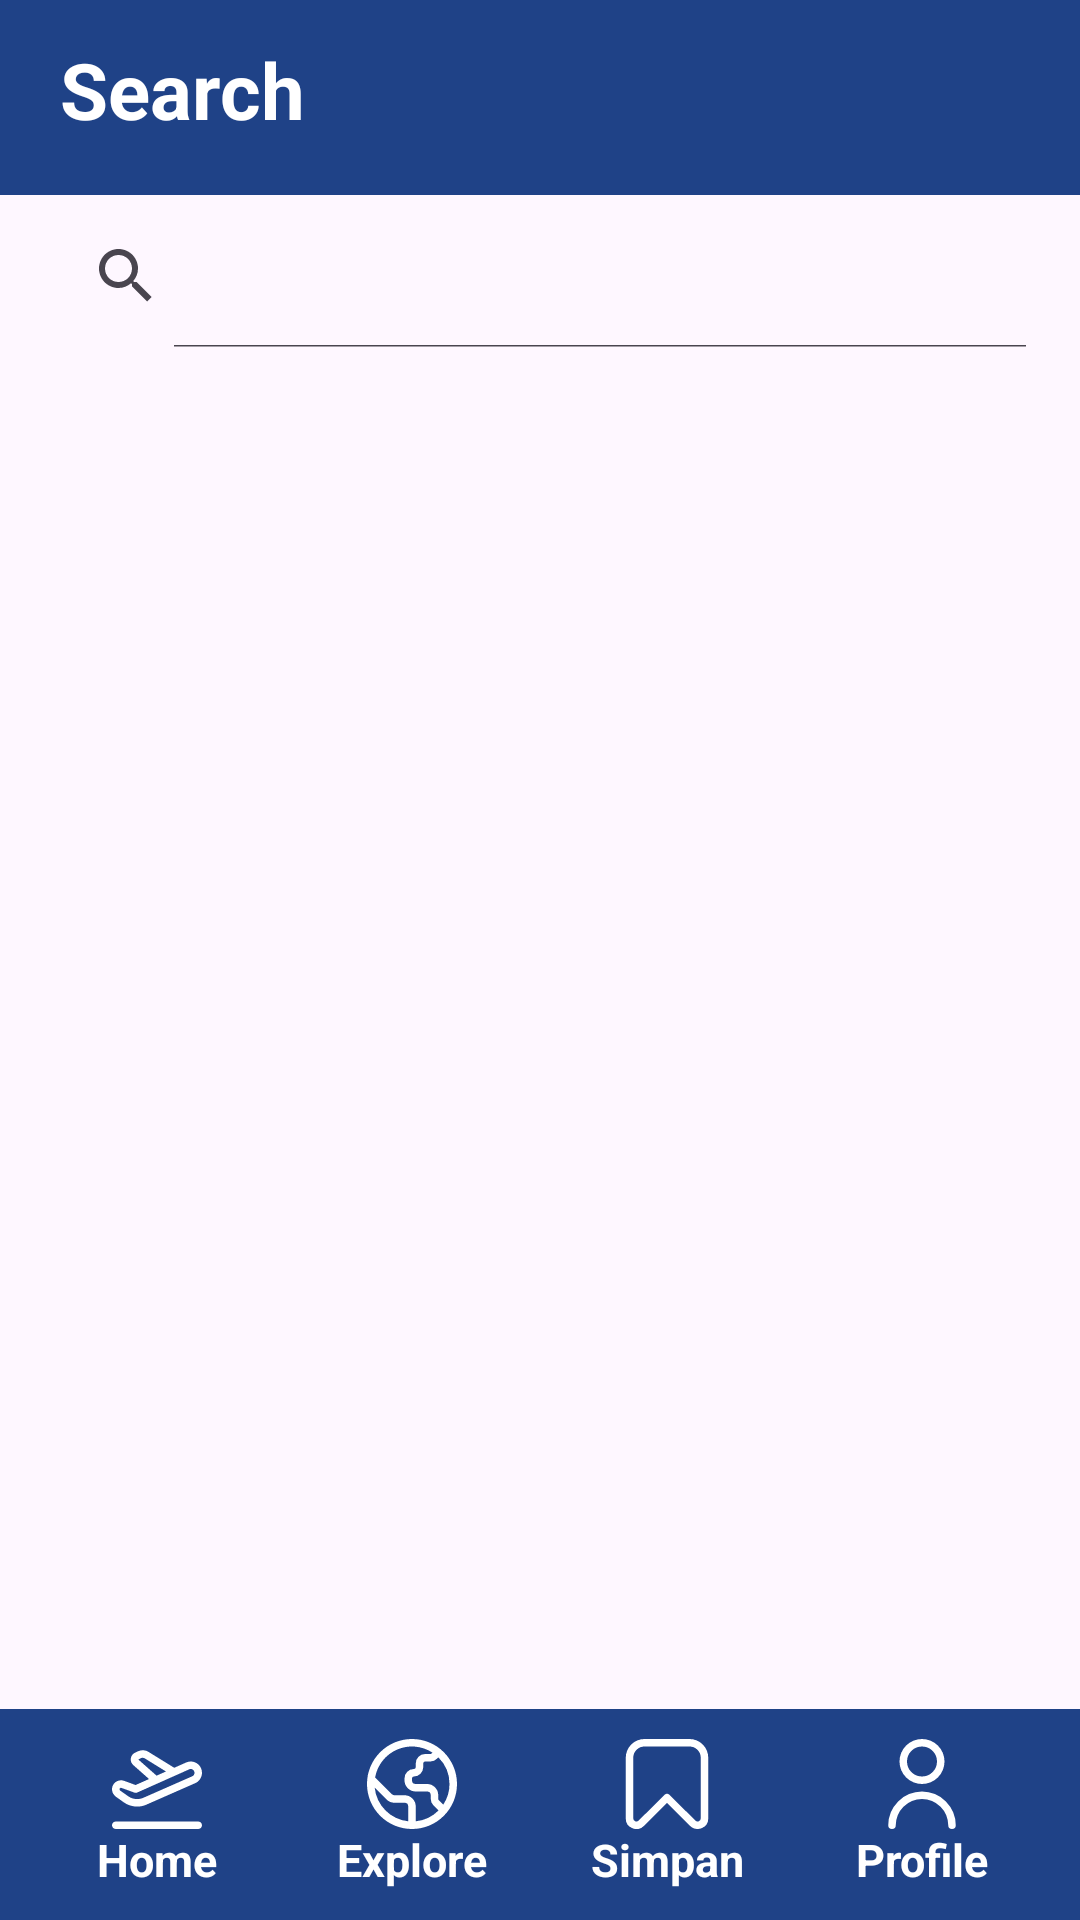

Point at icon controls on the screen. Image size 1080px×1920px, points as [x,y].
bookmark: [667,1784]
plane: [157,1789]
user: [922,1784]
world: [412,1784]
